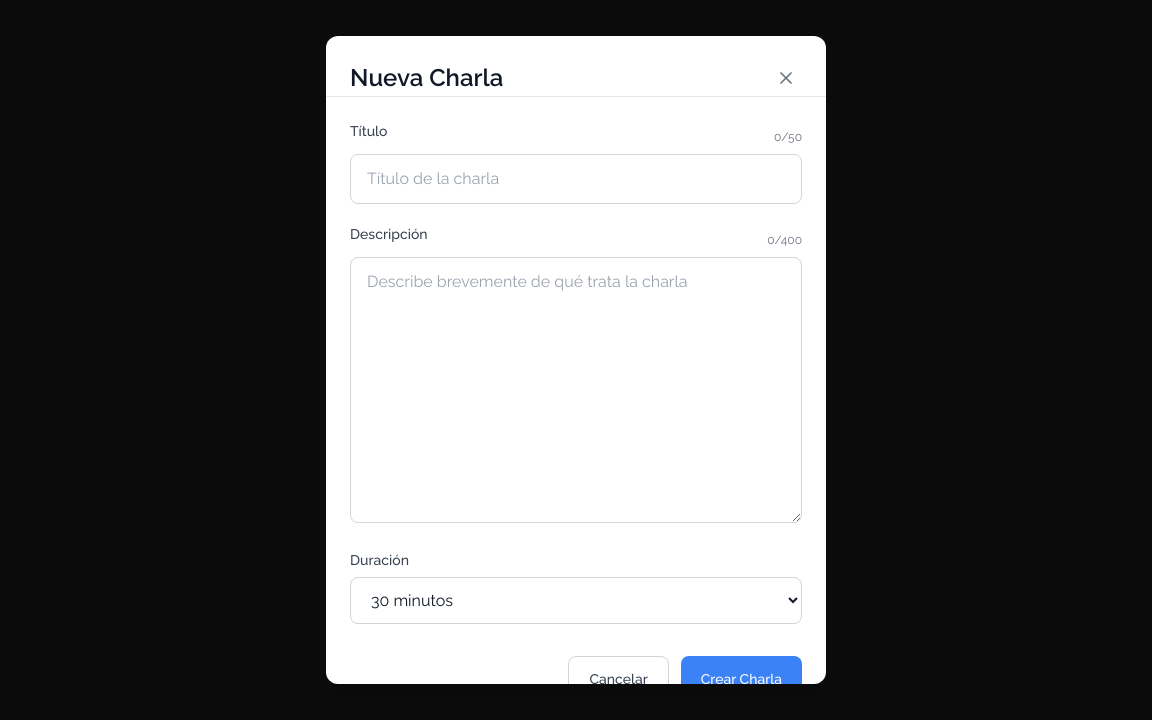
CreateTalkModal › debería mostrar error cuando la descripción está vacía
This screenshot has width=1152, height=720.
Type "Test Title" into the field labelled "Título" at [576, 179], box [350, 154, 802, 204]
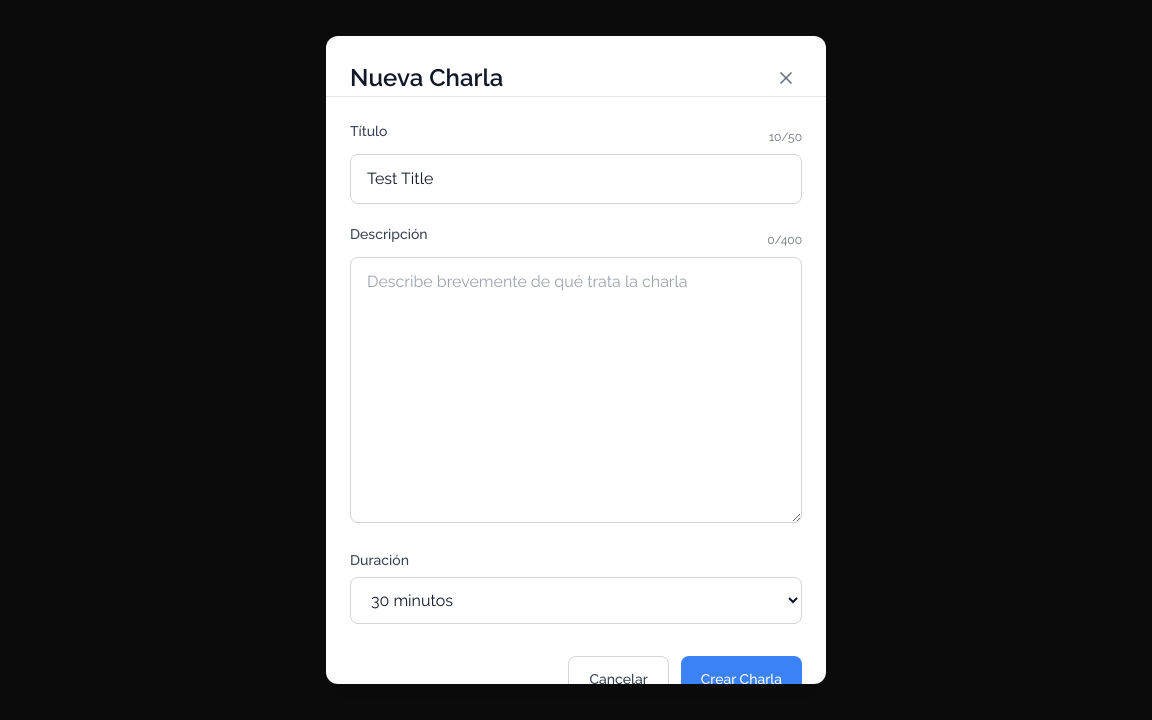
Click the button "Crear Charla" at [741, 680], box [681, 656, 802, 703]
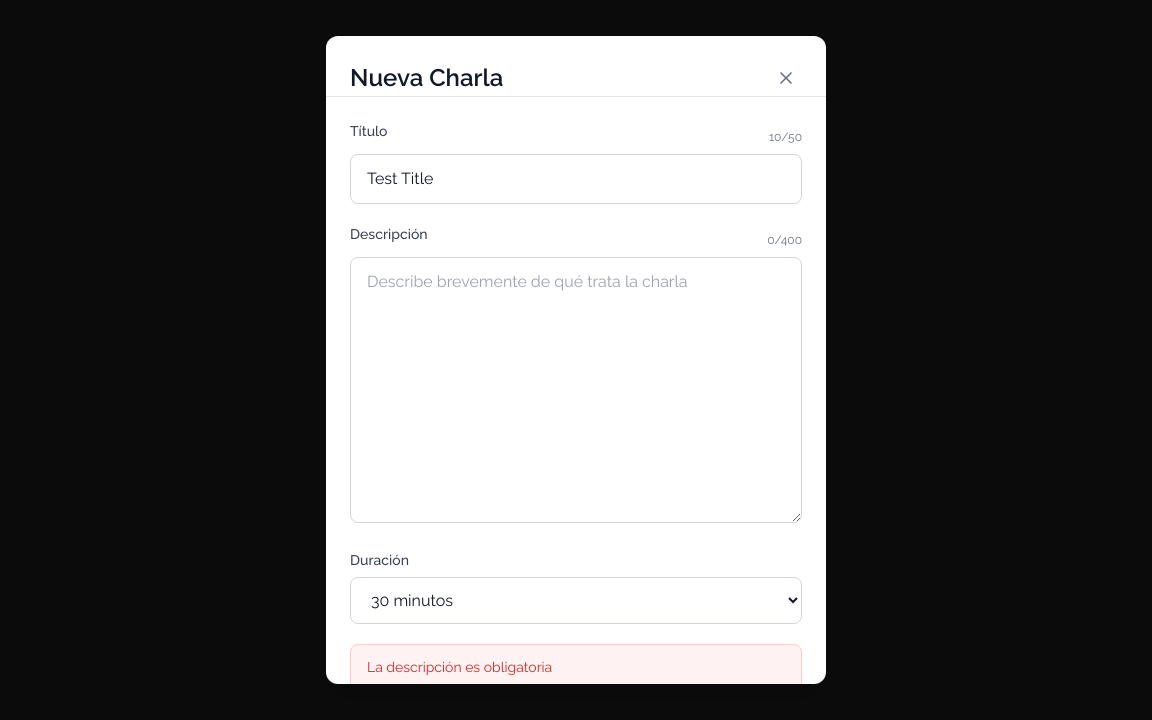
Check: the text "La descripción es obligatoria" is shown, box [350, 644, 802, 684]
